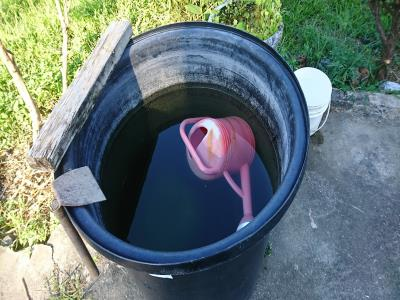bowl: (176, 113, 260, 188)
bucket: (51, 18, 311, 277), (294, 65, 334, 140)
